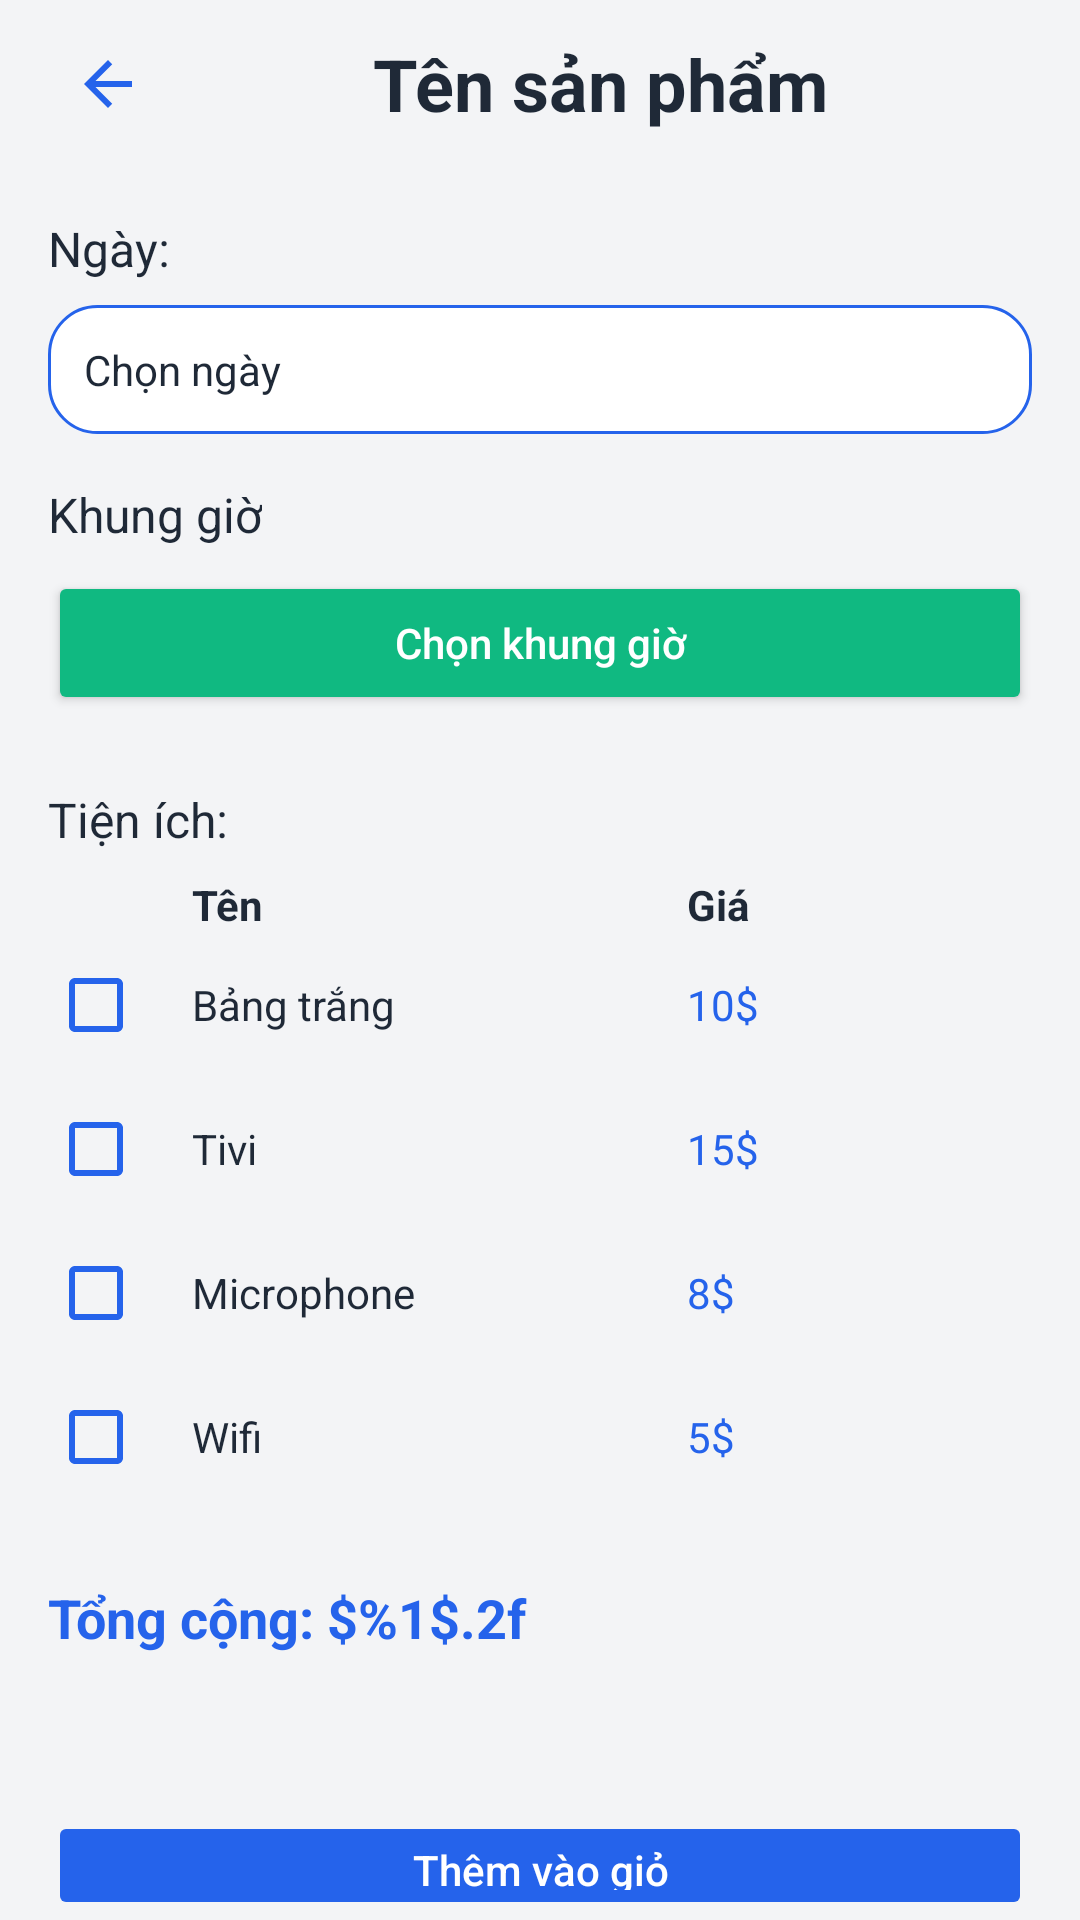

Icon click points for this 1080px x 1920px phone screenshot, format (x=x, y=y):
arrow back: (x=108, y=84)
